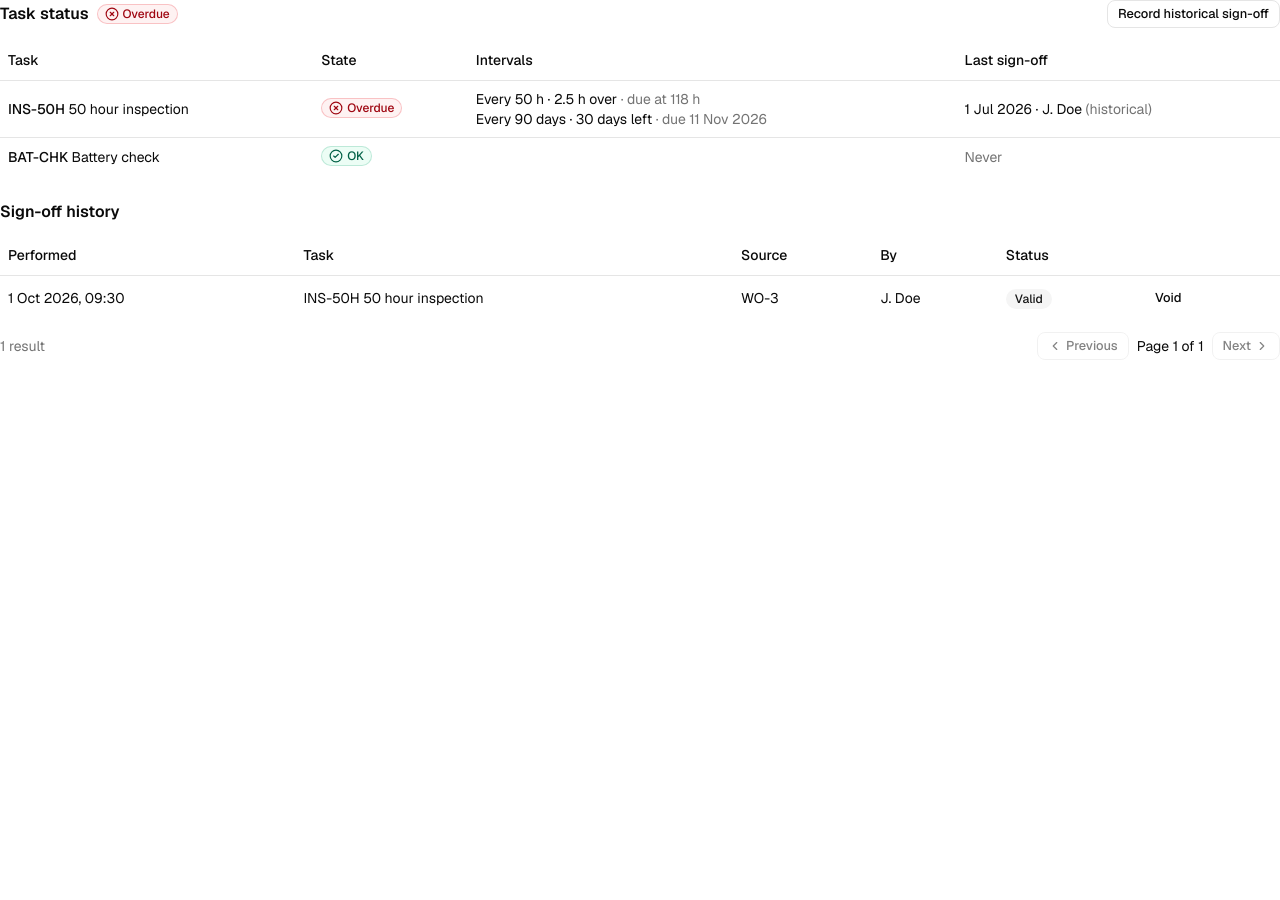
Scenario: AircraftMaintenance › shows a domain error from voiding inside the dialog
Click the button with aria-label "Void INS-50H sign-off".
click(1168, 298)  # box [1144, 284, 1192, 312]
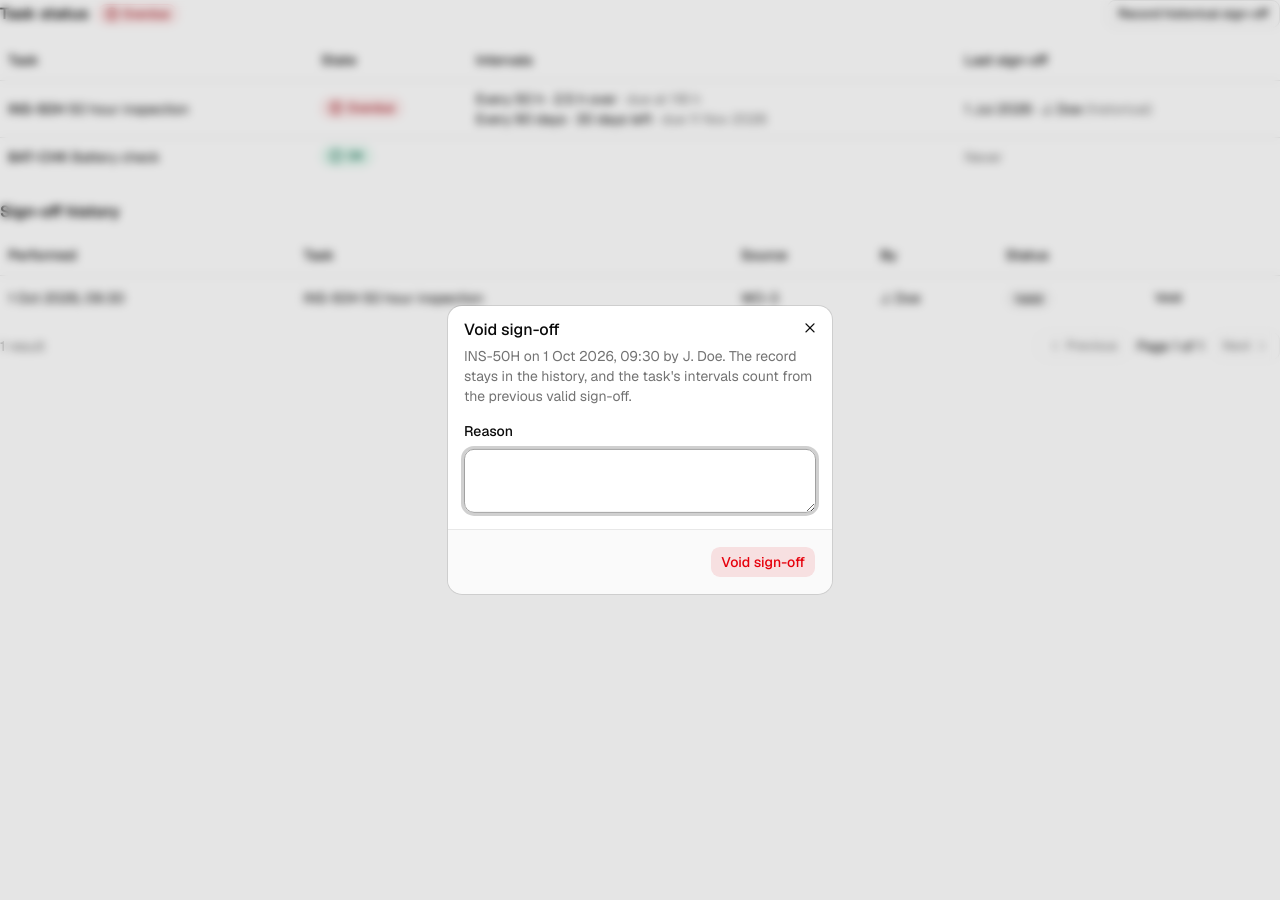
Type "Duplicate" into the text box labelled "Reason".
click(640, 481); type("Duplicate")  # box [464, 449, 816, 513]
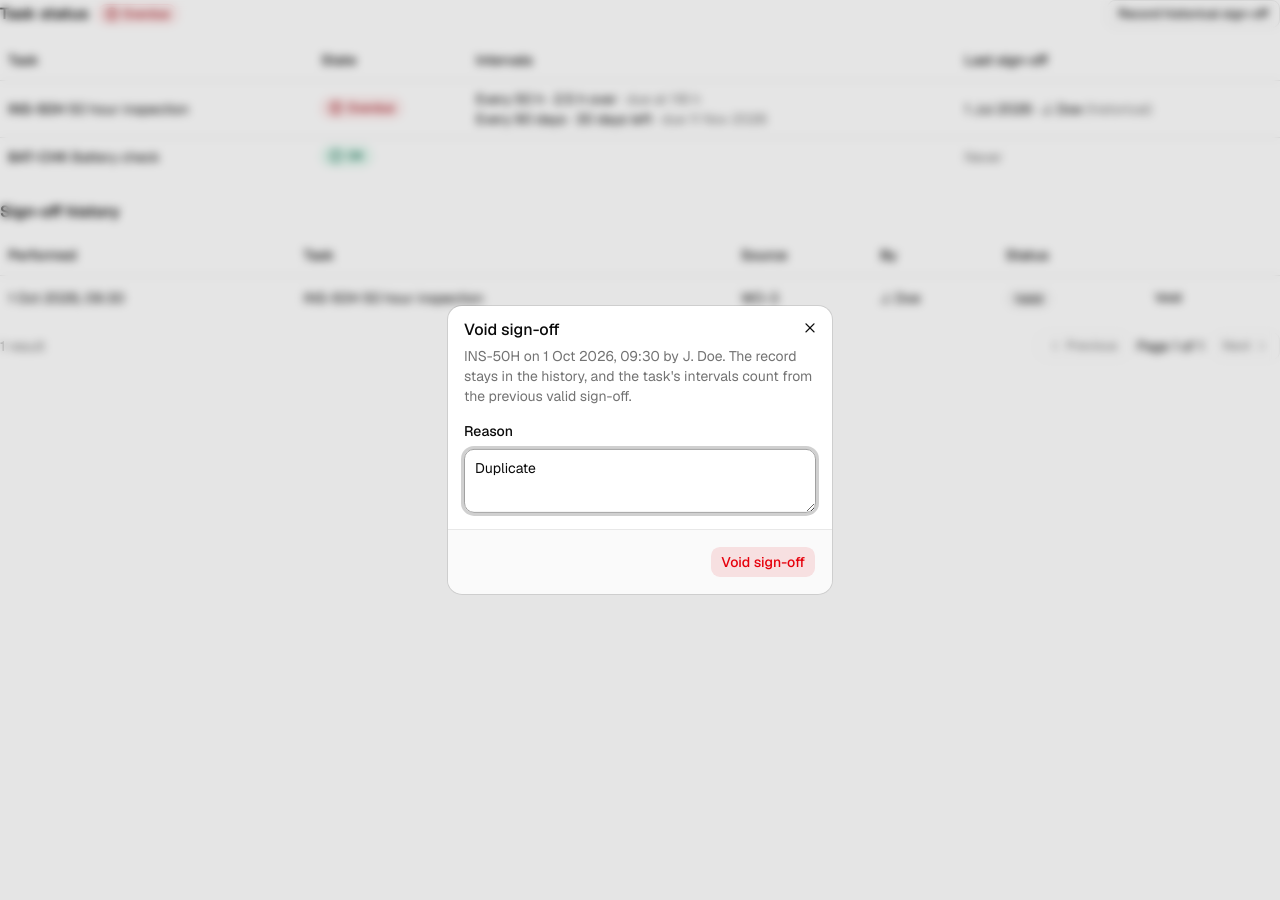
Click the button "Void sign-off".
click(763, 562)  # box [710, 546, 816, 578]
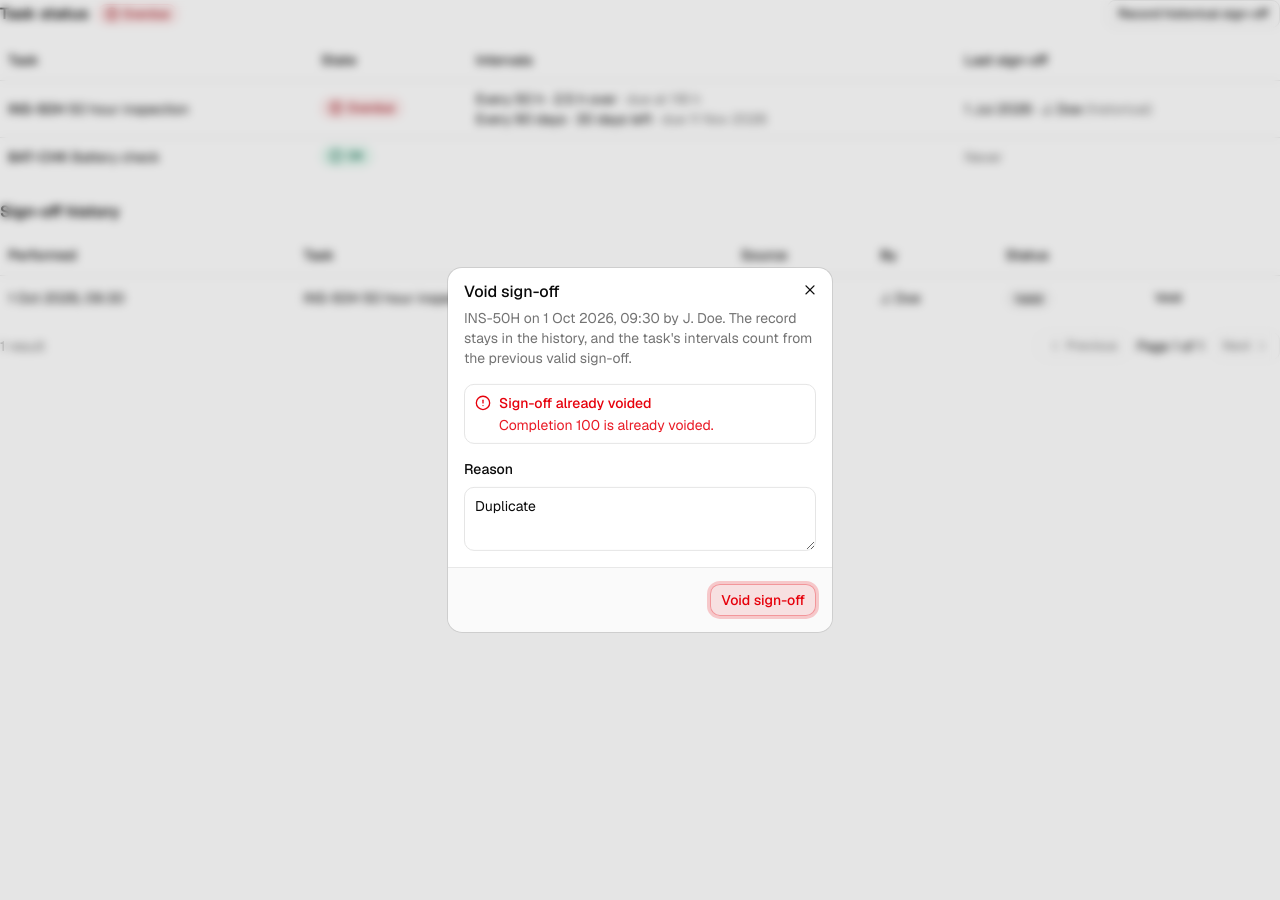
Expected: the message reads "Sign-off already voided Completion 100 is already voided.", [464, 384, 816, 444]
